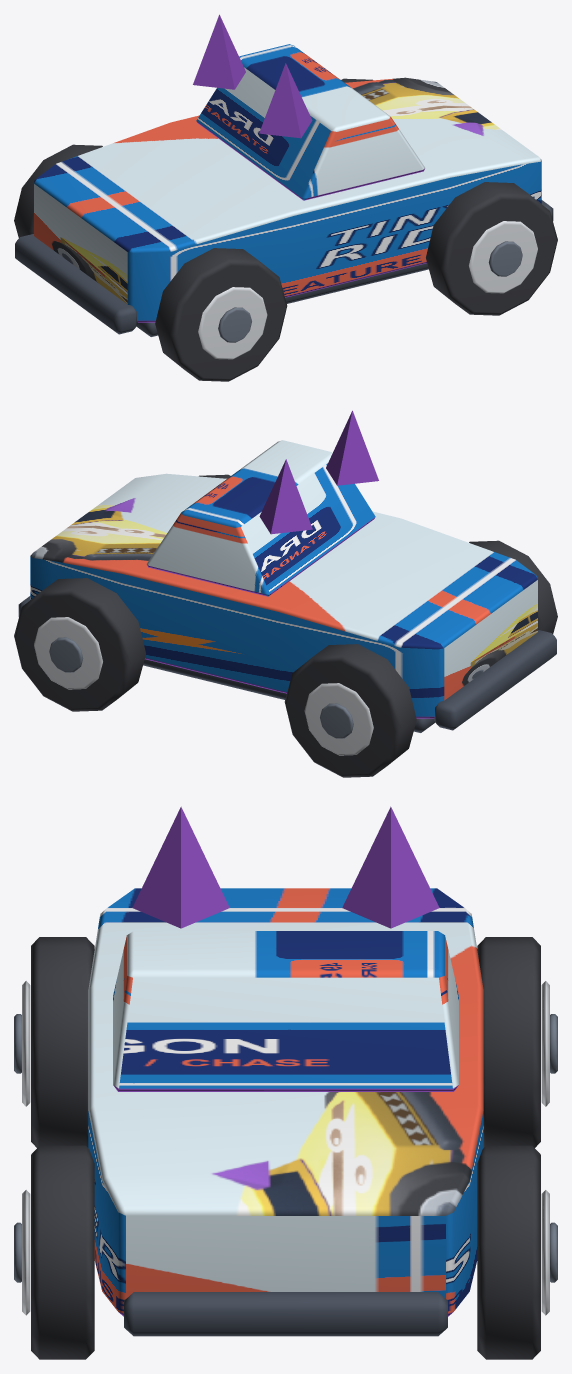
3 renders of one model, top to bottom at view 1: azimuth 30°, elevation 25°; view 2: azimuth 150°, elevation 25°; view 3: azimuth 270°, elevation 25°, orthographic. The views are drawn at different scales.
Visible parts, largest first — view 1: CR-05_connected_shell, CR-05_cabin, Tire.002, Tire, front bumper, Rim, Rim.002, horn.001, horn, Tire.001, underbody, Hub (+1 smaller); view 2: CR-05_connected_shell, CR-05_cabin, Tire.003, Tire.001, front bumper, Rim.001, Rim.003, horn, horn.001, Tire, underbody, Hub.001 (+1 smaller); view 3: CR-05_connected_shell, CR-05_cabin, rear bumper, Tire.002, Tire.003, Tire, Tire.001, horn, horn.001, Rim, Rim.001, Rim.002 (+1 smaller).
Part boxes in pixels (bbox=[...]): CR-05_connected_shell: bbox=[34, 77, 541, 322]; CR-05_cabin: bbox=[196, 44, 424, 200]; Tire.002: bbox=[426, 182, 557, 315]; Tire: bbox=[155, 248, 287, 381]; front bumper: bbox=[15, 234, 137, 334]; Rim: bbox=[198, 287, 267, 359]; Rim.002: bbox=[469, 221, 537, 293]; horn.001: bbox=[193, 14, 245, 89]; horn: bbox=[259, 63, 312, 138]; Tire.001: bbox=[14, 144, 102, 237]; underbody: bbox=[136, 263, 428, 336]; Hub: bbox=[218, 307, 251, 342]; CR-05_connected_shell: bbox=[30, 473, 537, 718]; CR-05_cabin: bbox=[147, 440, 375, 596]; Tire.003: bbox=[14, 578, 145, 711]; Tire.001: bbox=[284, 644, 416, 777]; front bumper: bbox=[434, 630, 556, 730]; Rim.001: bbox=[304, 683, 373, 755]; Rim.003: bbox=[34, 617, 102, 689]; horn: bbox=[326, 410, 378, 485]; horn.001: bbox=[259, 459, 312, 534]; Tire: bbox=[469, 540, 557, 633]; underbody: bbox=[143, 659, 435, 732]; Hub.001: bbox=[320, 703, 353, 738]; CR-05_connected_shell: bbox=[88, 888, 483, 1316]; CR-05_cabin: bbox=[113, 931, 458, 1091]; rear bumper: bbox=[124, 1292, 447, 1336]; Tire.002: bbox=[31, 1145, 94, 1359]; Tire.003: bbox=[477, 1145, 540, 1359]; Tire: bbox=[31, 937, 94, 1147]; Tire.001: bbox=[477, 937, 540, 1147]; horn: bbox=[132, 806, 229, 928]; horn.001: bbox=[342, 806, 439, 928]; Rim: bbox=[22, 981, 30, 1106]; Rim.001: bbox=[541, 981, 549, 1106]; Rim.002: bbox=[22, 1190, 30, 1315].
Size of the model in its own units: 330 by 187 by 223.
